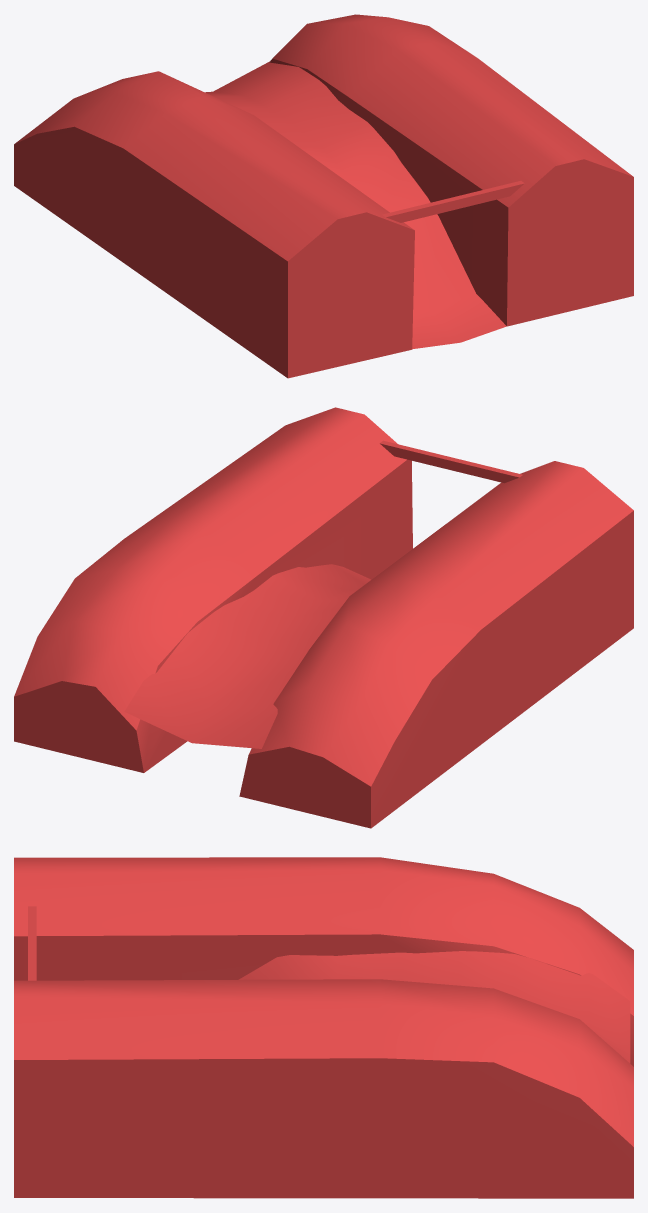
The model's file is Ground_End_Ramp_Wood_COL.fbx.
3 renders of one model, top to bottom at view 1: azimuth 30°, elevation 25°; view 2: azimuth 150°, elevation 25°; view 3: azimuth 270°, elevation 25°, orthographic. The views are drawn at different scales.
Visible parts, largest first — view 1: Ground_End_Ramp_Wood_COL; view 2: Ground_End_Ramp_Wood_COL; view 3: Ground_End_Ramp_Wood_COL.
Boxes of the visible parts, x1,y1,x2,y2 form: Ground_End_Ramp_Wood_COL: (14,14,633,378); Ground_End_Ramp_Wood_COL: (14,407,633,828); Ground_End_Ramp_Wood_COL: (14,857,633,1198).
Bounding box in the file's own units: 626 × 261 × 817.
